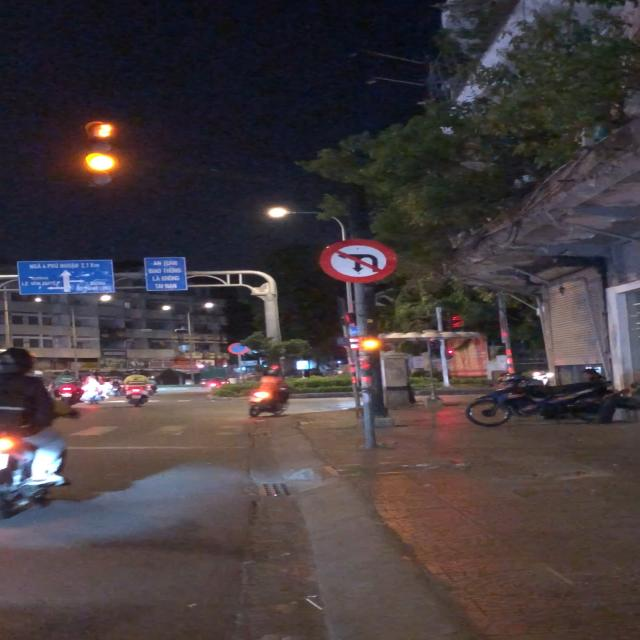Bien bao cam re trai va quay dau: (316, 237, 402, 286)
